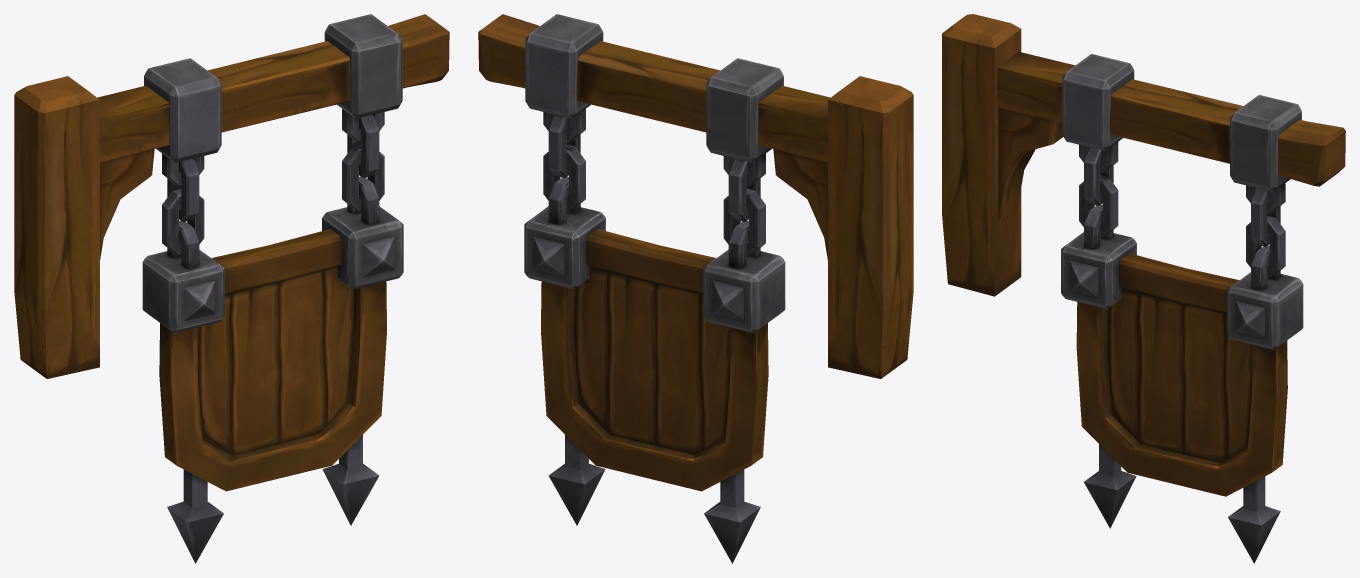
File: stylized_tavern_sign.glb
The picture shows the model from 3 angles, left to right: view 1: azimuth 30°, elevation 25°; view 2: azimuth 150°, elevation 25°; view 3: azimuth 330°, elevation 25°; orthographic projection. The views are drawn at different scales.
Parts seen in each view (by area): view 1: Cube.006, Cube.005, Cube, Cube.001, Cube.002, Cube.003, Chain, Cube.004; view 2: Cube.006, Cube.005, Cube, Cube.001, Cube.002, Cube.003, Chain, Cube.004; view 3: Cube.006, Cube.005, Cube, Cube.001, Cube.002, Cube.003, Chain, Cube.004.
Part boxes in pixels (x1,y1,x2,y2): Cube.006: [159, 229, 386, 491]; Cube.005: [14, 14, 449, 378]; Cube: [142, 206, 403, 563]; Cube.001: [144, 14, 402, 162]; Cube.002: [162, 145, 384, 255]; Cube.003: [167, 115, 379, 221]; Chain: [167, 176, 379, 268]; Cube.004: [162, 109, 384, 186]; Cube.006: [541, 229, 768, 491]; Cube.005: [478, 14, 913, 378]; Cube: [524, 206, 785, 563]; Cube.001: [525, 14, 783, 162]; Cube.002: [543, 145, 765, 255]; Cube.003: [548, 115, 760, 221]; Chain: [548, 176, 760, 268]; Cube.004: [543, 109, 765, 186]; Cube.006: [1076, 253, 1287, 496]; Cube.005: [942, 14, 1345, 296]; Cube: [1061, 232, 1303, 563]; Cube.001: [1062, 54, 1301, 191]; Cube.002: [1079, 175, 1285, 278]; Cube.003: [1084, 147, 1280, 246]; Chain: [1084, 204, 1280, 290]; Cube.004: [1079, 142, 1285, 213].
Bounding box in the file's own units: 4.09 × 4.82 × 0.7166.
1 material, 1 textured.
